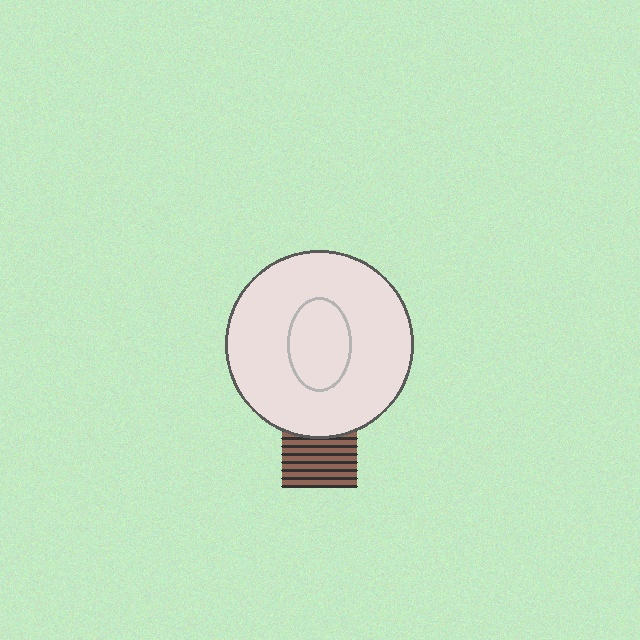bulb: (221, 246, 417, 492)
